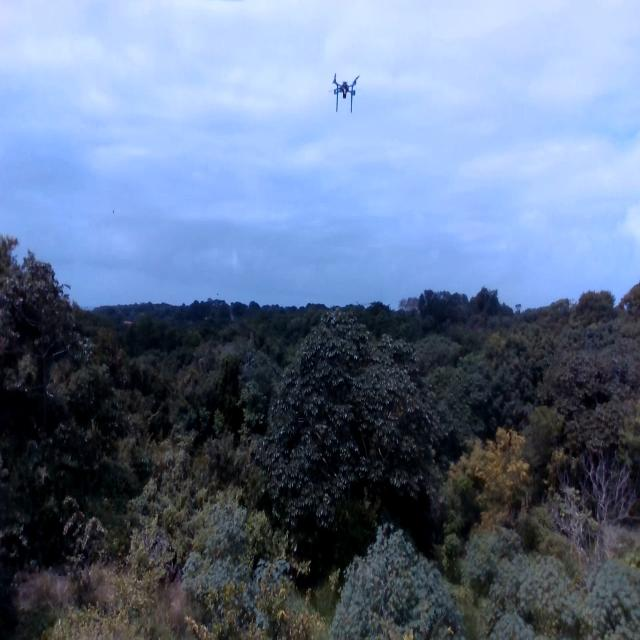-uav-: (325, 59, 367, 128)
